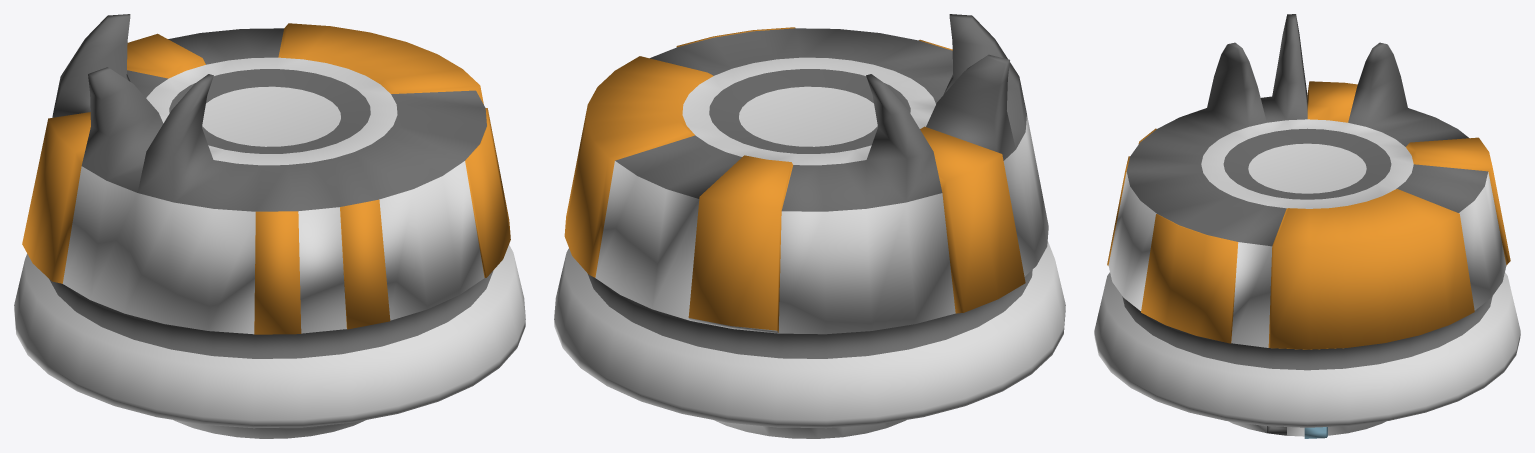
The model's file is head6.glb.
The picture shows the model from 3 angles, left to right: view 1: azimuth 30°, elevation 25°; view 2: azimuth 150°, elevation 25°; view 3: azimuth 270°, elevation 25°; orthographic projection. The views are drawn at different scales.
Parts seen in each view (by area): view 1: body6; view 2: body6; view 3: body6.
Part boxes in pixels (<box>): body6: <box>14,14,525,438</box>; body6: <box>554,14,1065,438</box>; body6: <box>1094,14,1520,438</box>.
Size of the model in its own units: 1.86 by 1.46 by 1.86.
